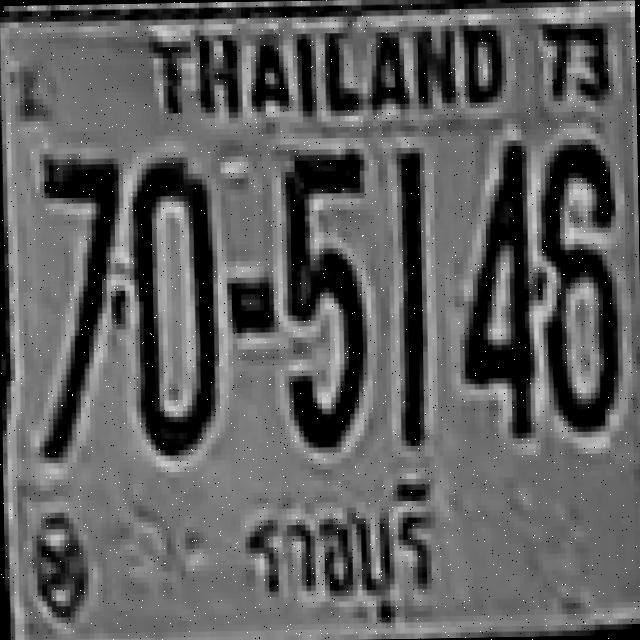0: (134, 156, 218, 450)
1: (398, 148, 426, 374)
4: (456, 137, 535, 436), (456, 140, 534, 406), (456, 137, 534, 381)
5: (282, 148, 368, 320)
7: (39, 150, 120, 338)
Ratchaburi: (232, 474, 448, 638)
